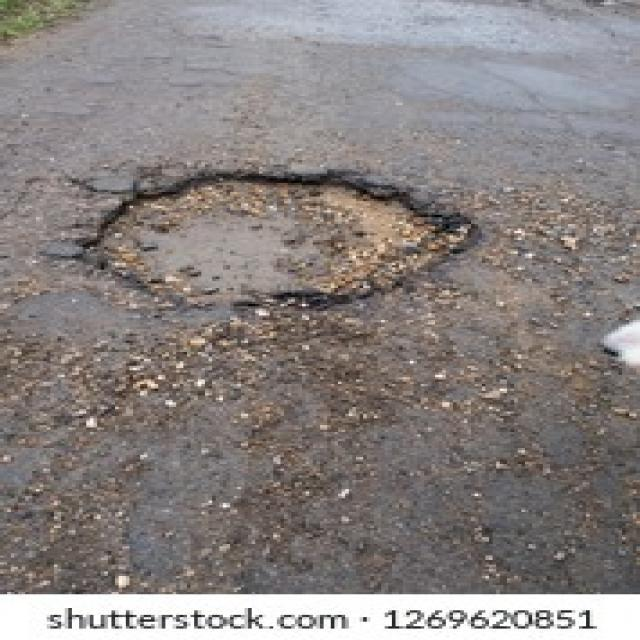Pothole: (79, 169, 482, 306)
